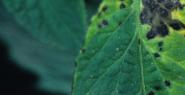Tomato Early blight leaf: (84, 0, 185, 95)
